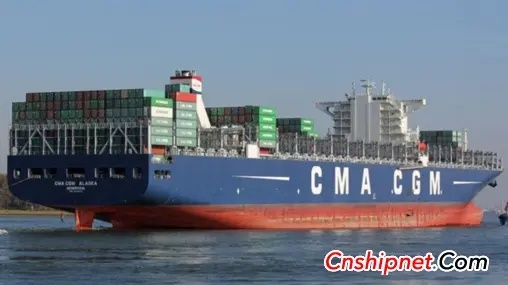Cargoship: (4, 66, 508, 229)
